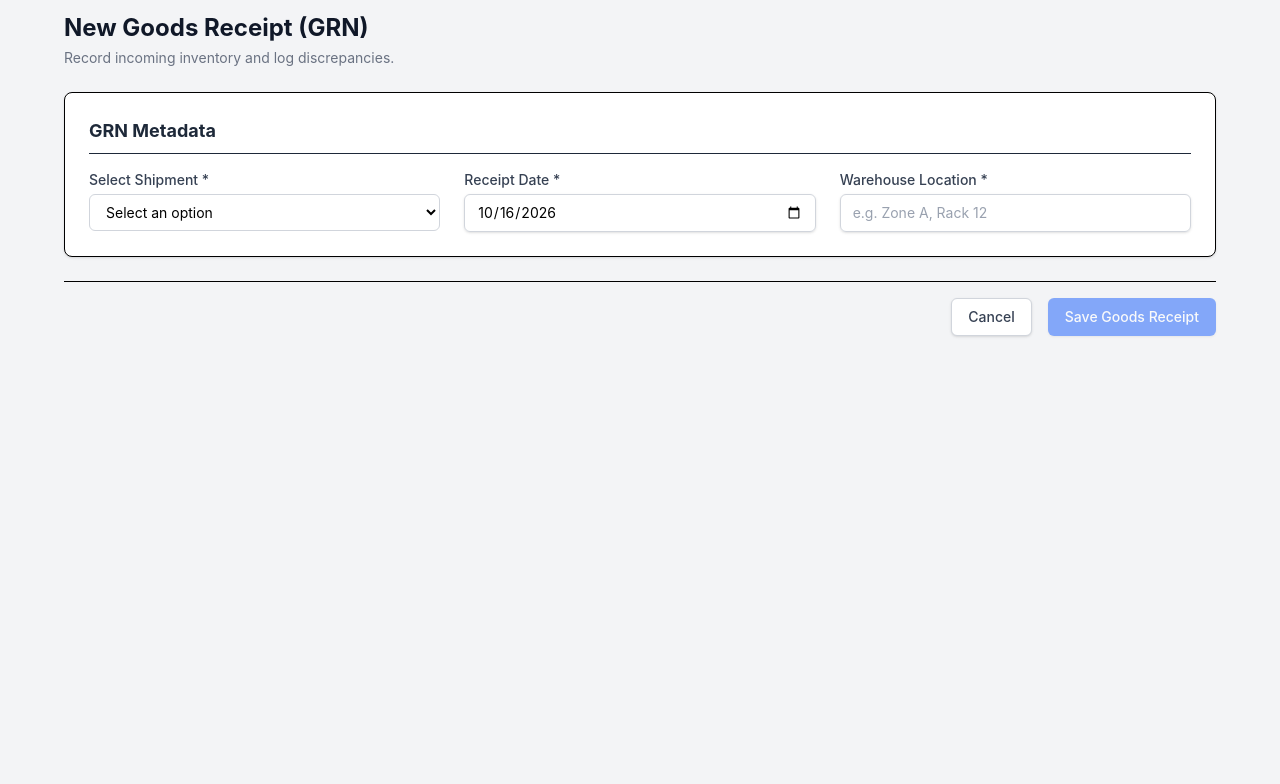
Test case: GoodsReceiptFormPage › validates that accepted and rejected quantities sum to received quantity for partial inspections
Select the shipment
Select "SHP-001 [CLEARED]" in the dropdown labelled "Select Shipment *": (265, 212) [89,194,440,231]
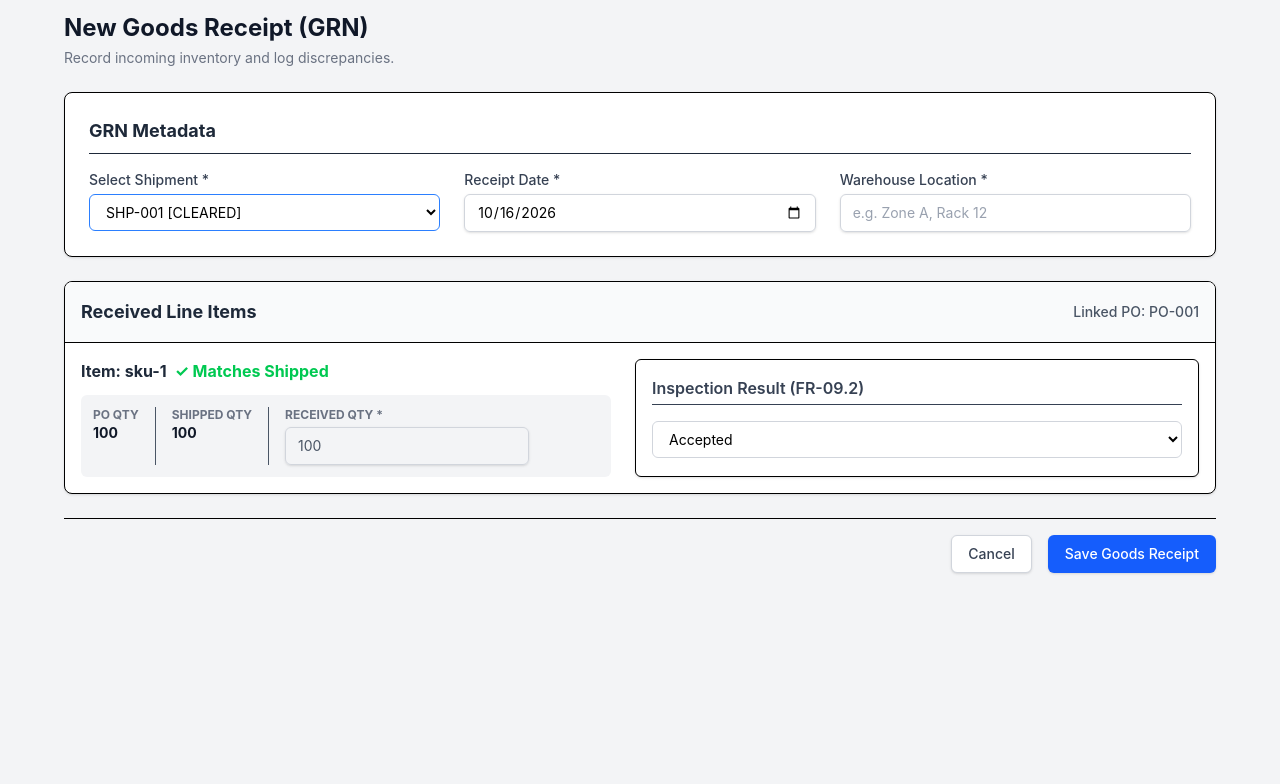
Expected: the text "Accepted + Rejected must equal Received Quantity" is not shown
Expected: the heading "Item: sku-1" is shown, [81,359,167,383]
Select "Accepted with Conditions (Partial)" in the 2nd dropdown: (917, 440) [652,421,1182,458]
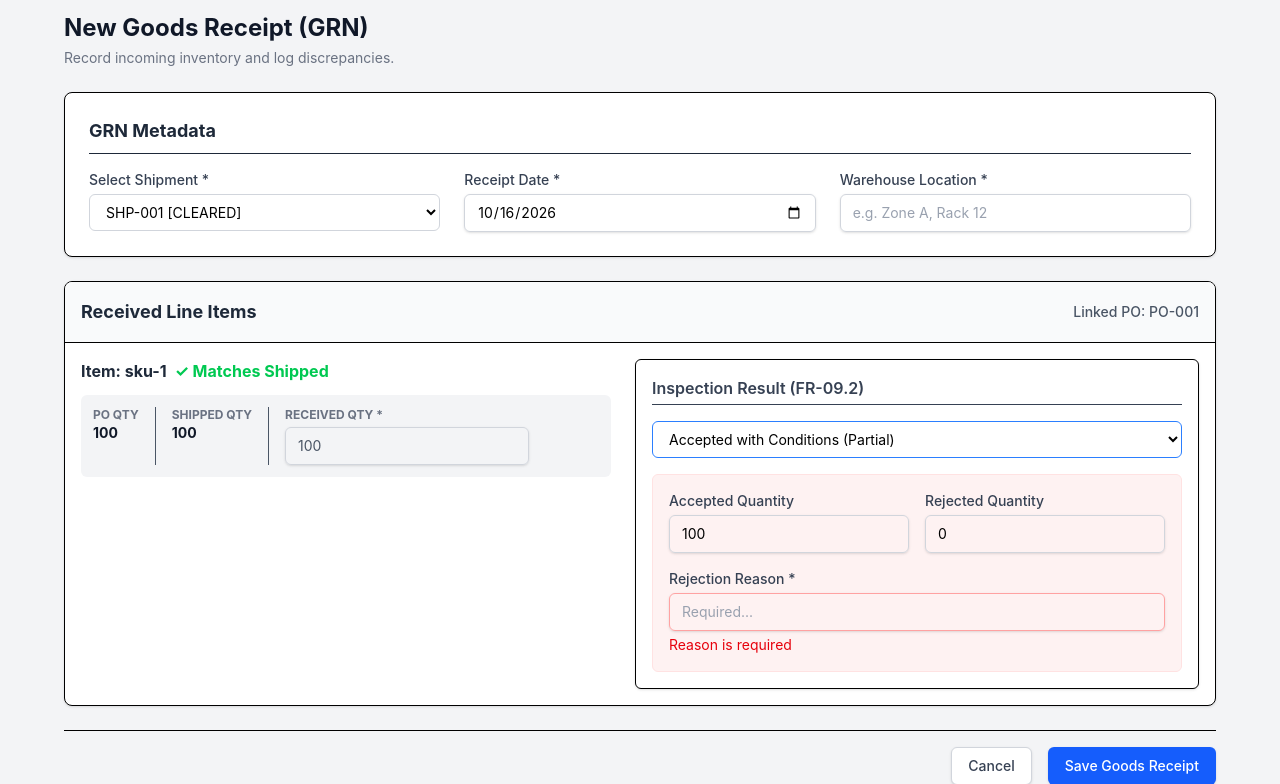
clear and type 90
Replace the text in the number field labelled "Accepted Quantity" with "90": (789, 534) [669,515,909,553]
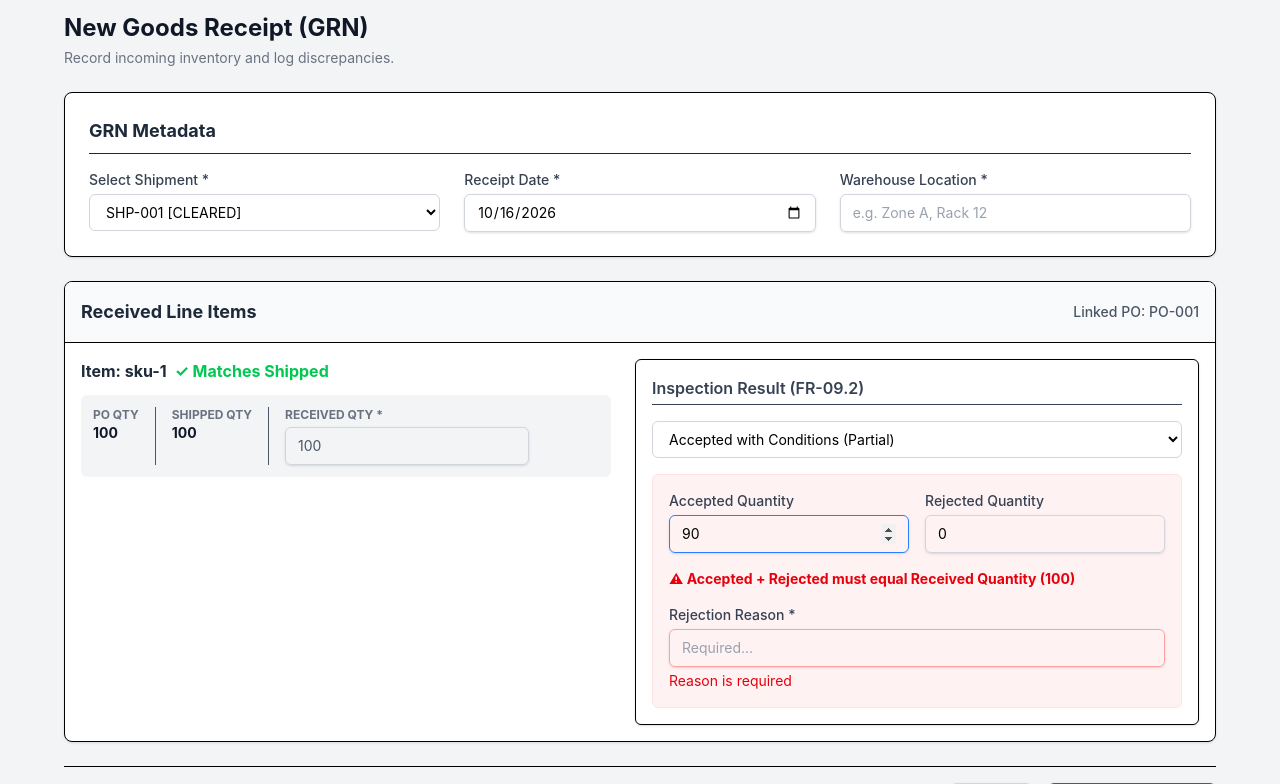
Expected: the text "⚠ Accepted + Rejected must equal Received Quantity (100)" is shown, [669,570,1075,587]
Replace the text in the number field labelled "Rejected Quantity" with "10": (1045, 534) [925,515,1165,553]
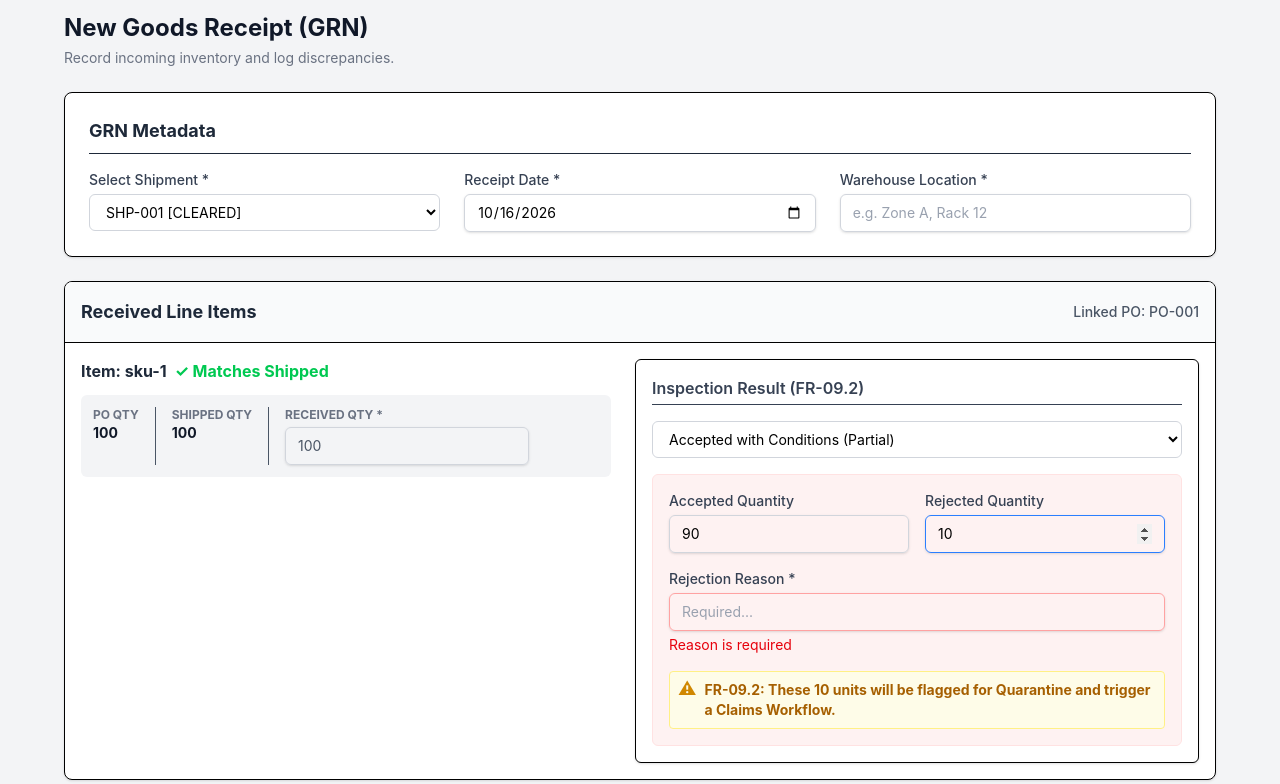
Expected: the text "Accepted + Rejected must equal Received Quantity (100)" is gone
